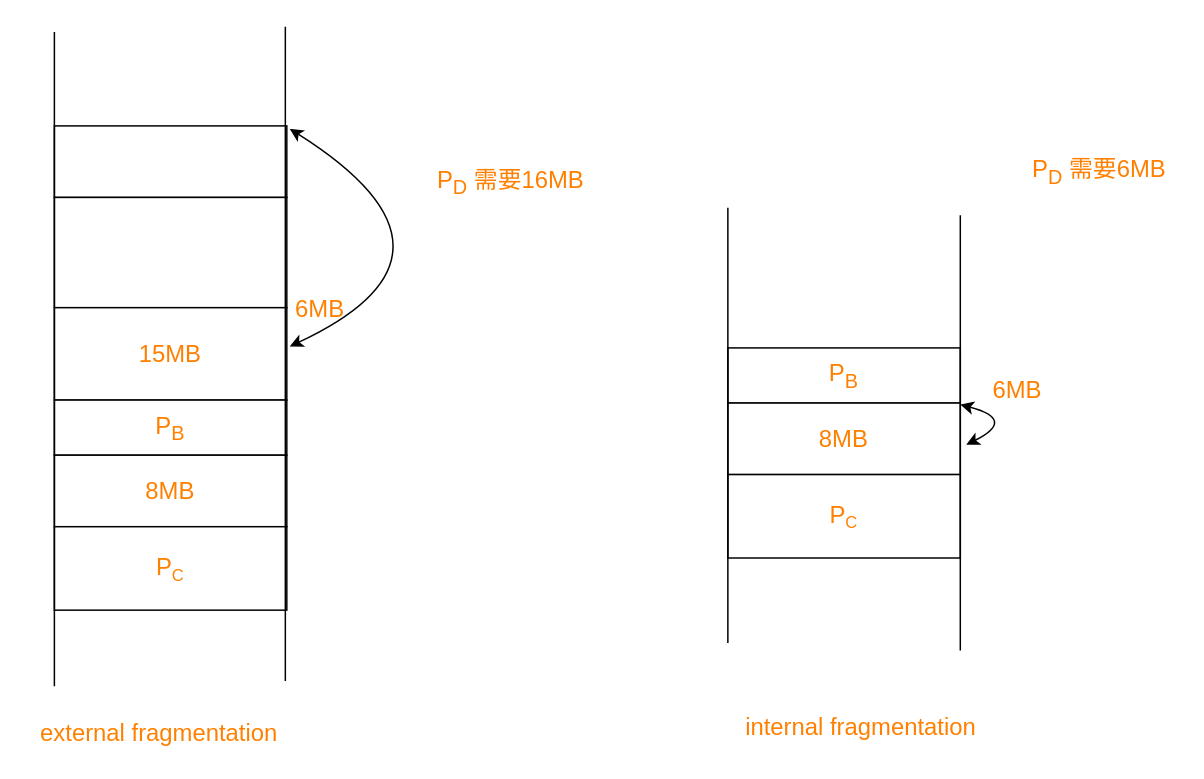
Image size: 1204x779. Some labels were removed from this diagram. Here are the shapes that lost their labels. From the top down, the centre of each, then its label:
point (170, 160): 10MB
point (170, 252): P A
